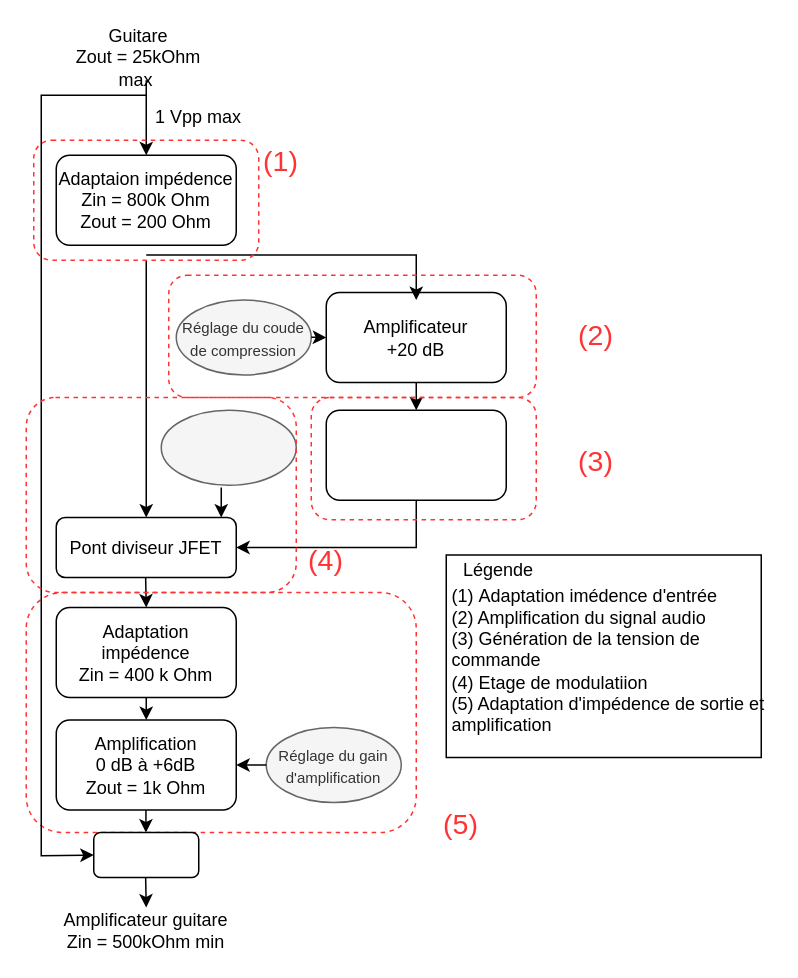
The diagram is 798 pixels wide and 978 high, and some of its shapes have lost their labels. Here are the shapes that lost their labels. From the top down, the centre of each, then its label:
point 228,447: Réglage du coefficient d'attenuation
point 415,454: Détecteur d'enveloppe
point 145,854: Bypass
